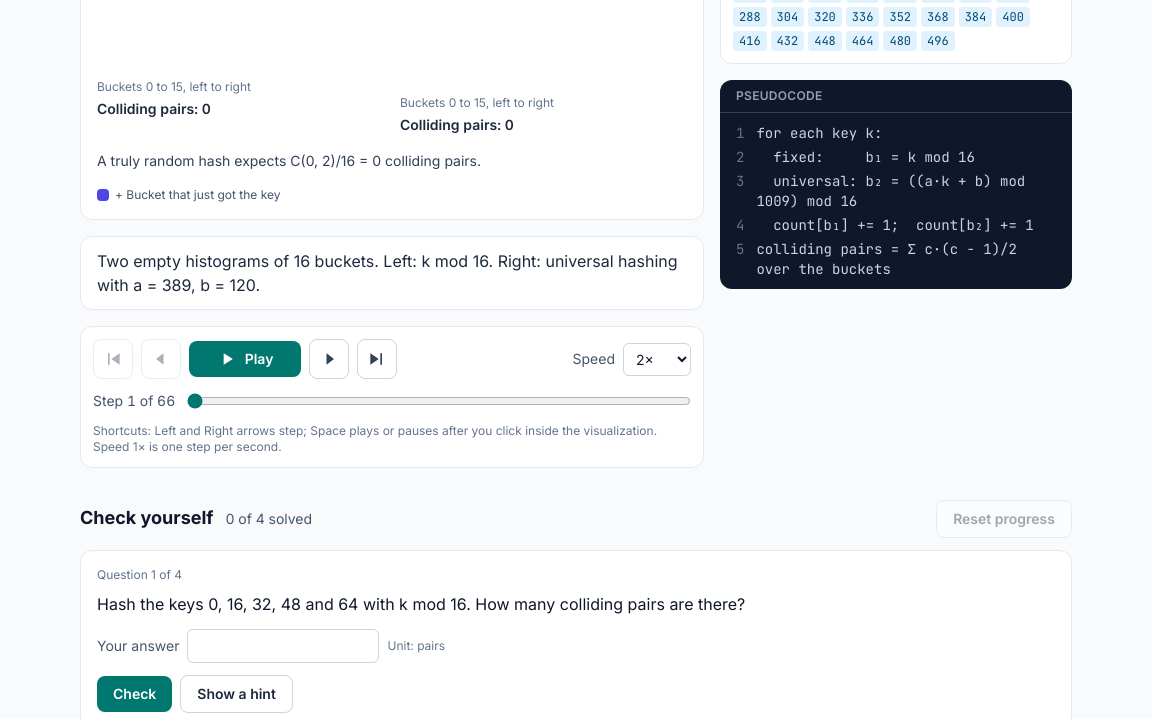
it: designing hash functions lesson › piles the attack keys into one bucket on the left only
(page scrolled)
Click the button named "Next step" at (329, 359), box [309,339,349,379]
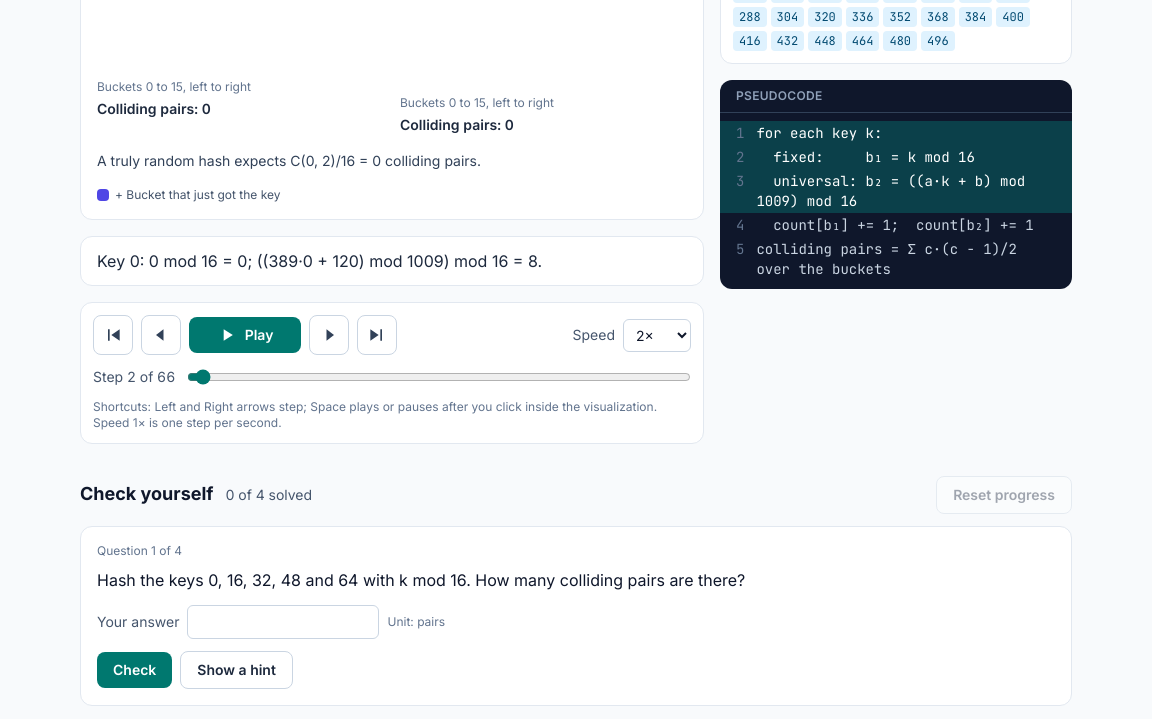
expect the text "Key 0: 0 mod 16 = 0; ((389·0 + 120) mod 1009) mod 16 = 8." is shown: met, box [80,236,704,286]
Click the button named "Next step" at (329, 335), box [309,315,349,355]
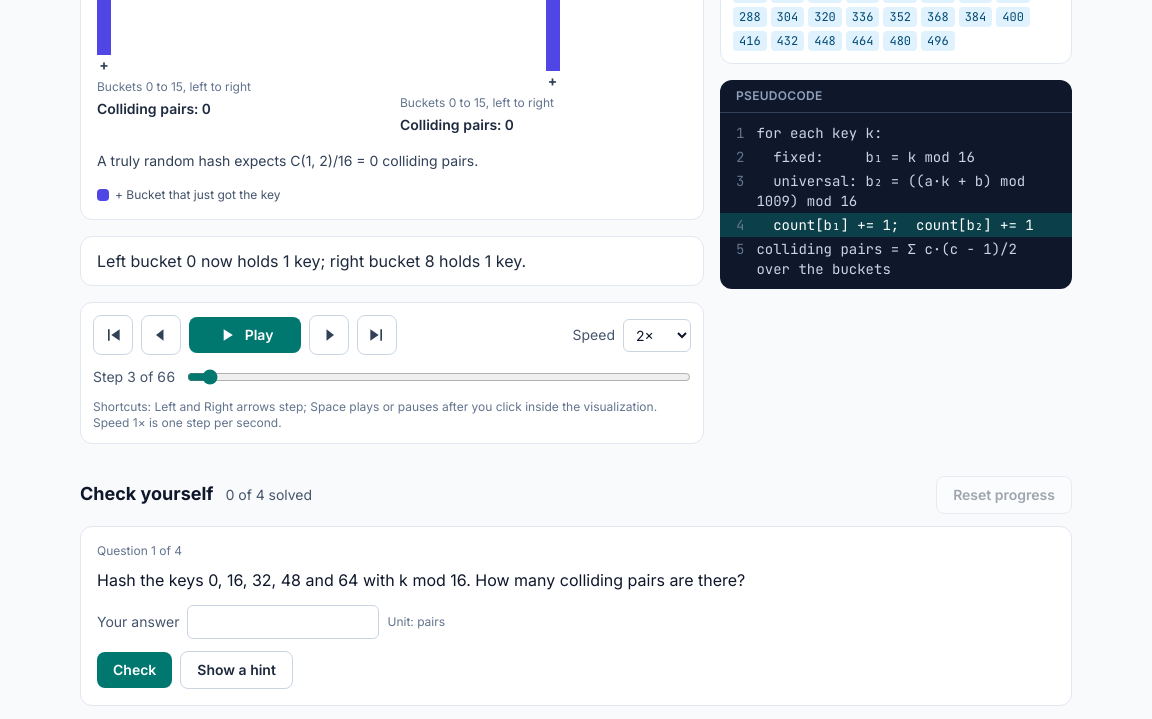
expect the text "Left bucket 0 now holds 1 key; right bucket 8 holds 1 key." is shown: met, box [80,236,704,286]
Click the button named "Last step" at (377, 335), box [357,315,397,355]
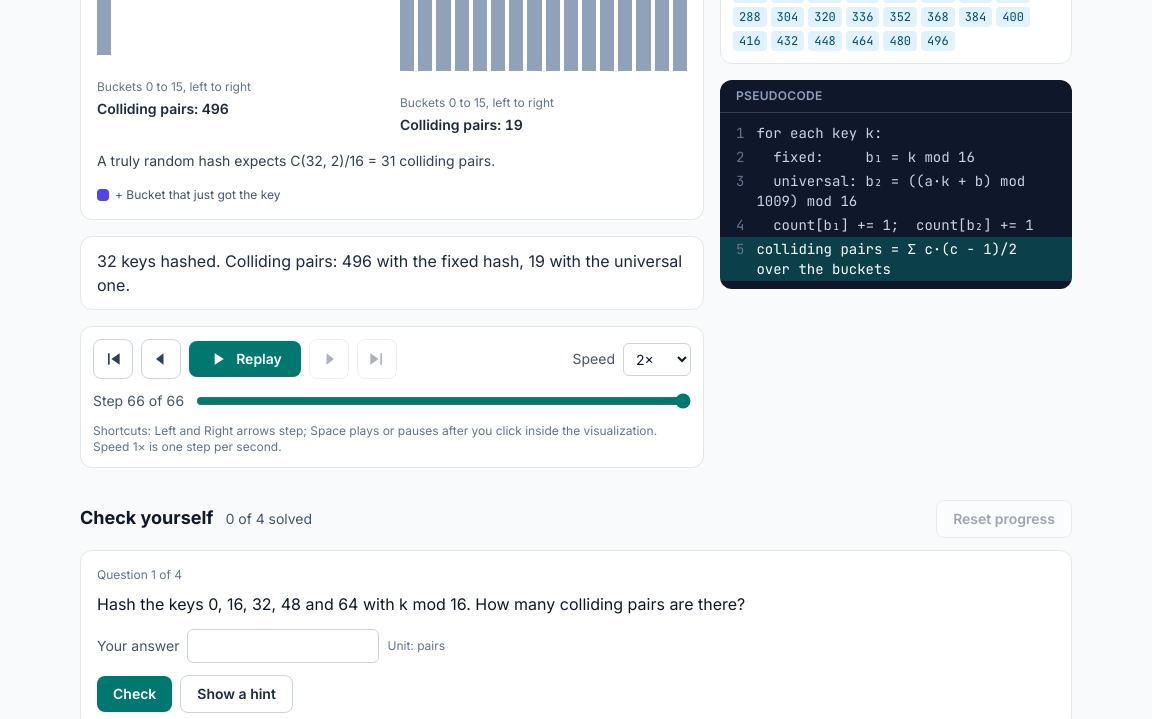
expect the text "32 keys hashed. Colliding pairs: 496 with the fixed hash, 19 with the universal one." is shown: met, box [97,251,682,295]
